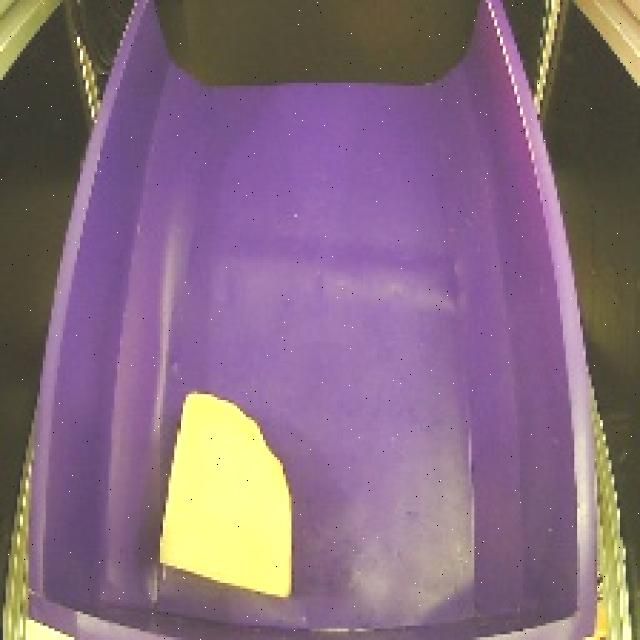potato: (144, 378, 308, 610)
